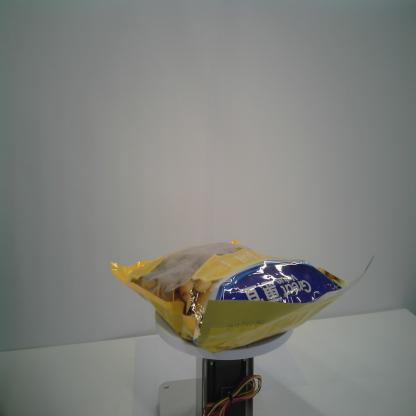Dried Food: (110, 238, 375, 355)
